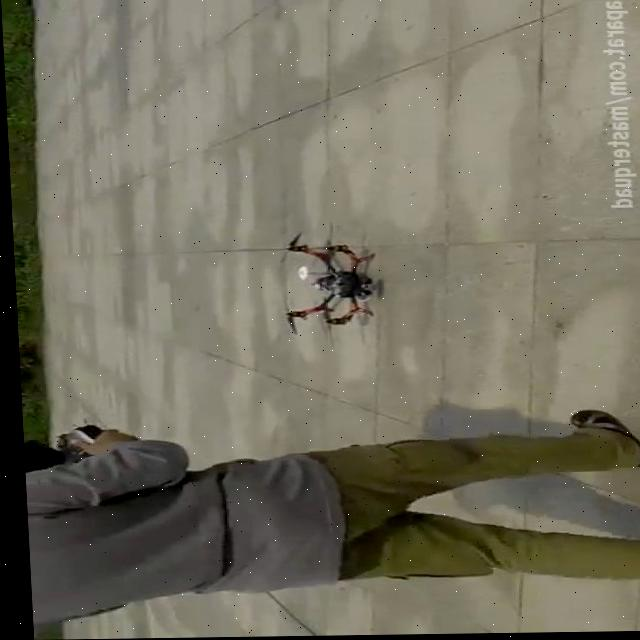drone: (264, 229, 376, 348)
